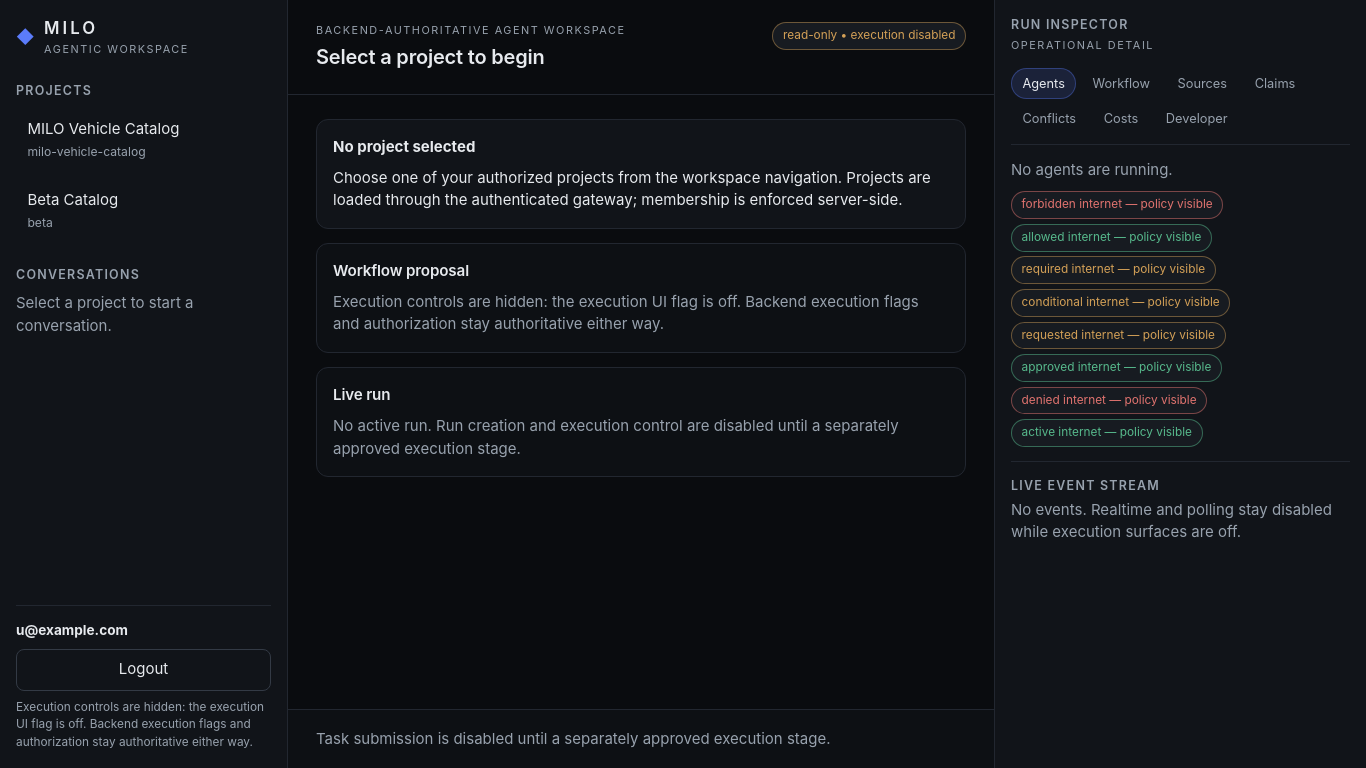
Test: the surface only appears where it applies › appears once a project is selected, closed and having read nothing
Click the text "MILO Vehicle Catalog" at (103, 128), box [27,119,179,138]
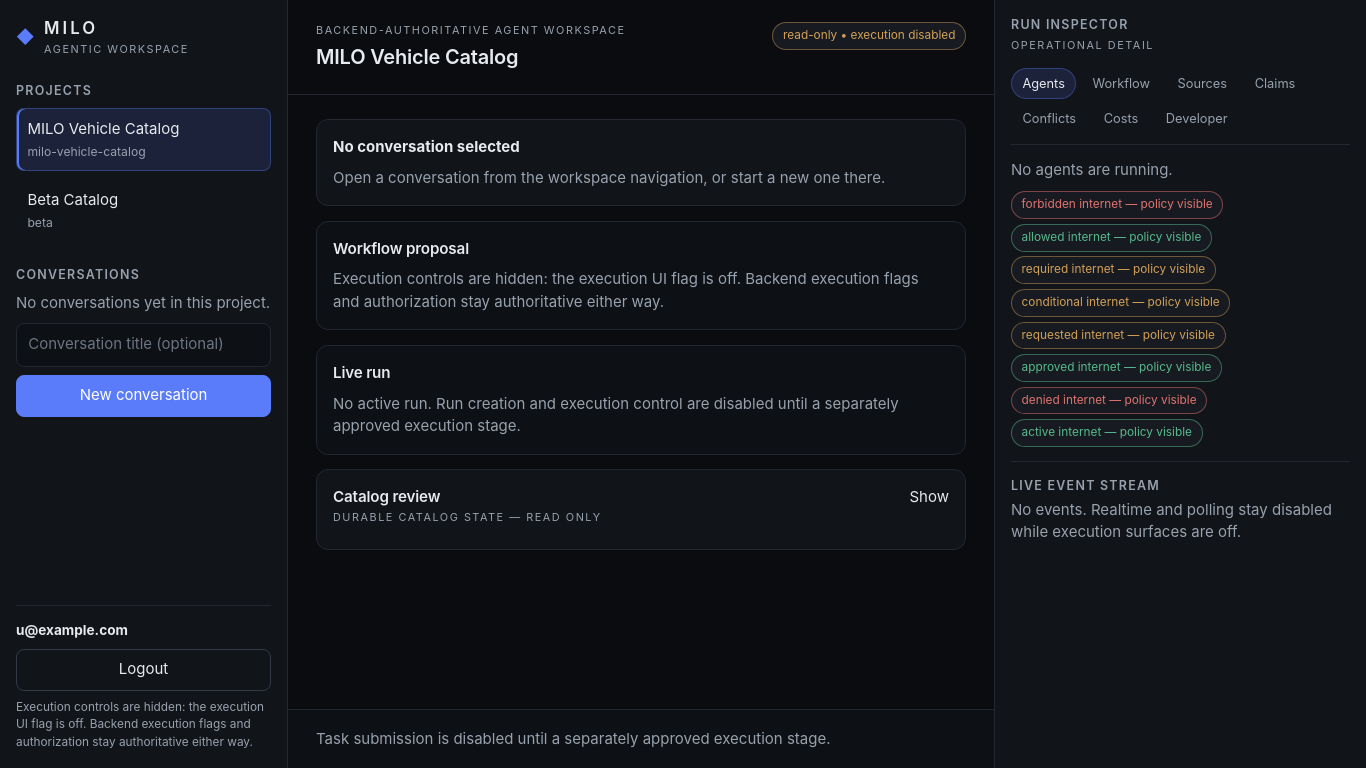
Now the element "Catalog review" is shown, box [316,469,966,550]
